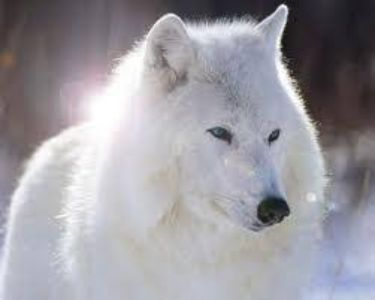wolf: (18, 5, 328, 293)
